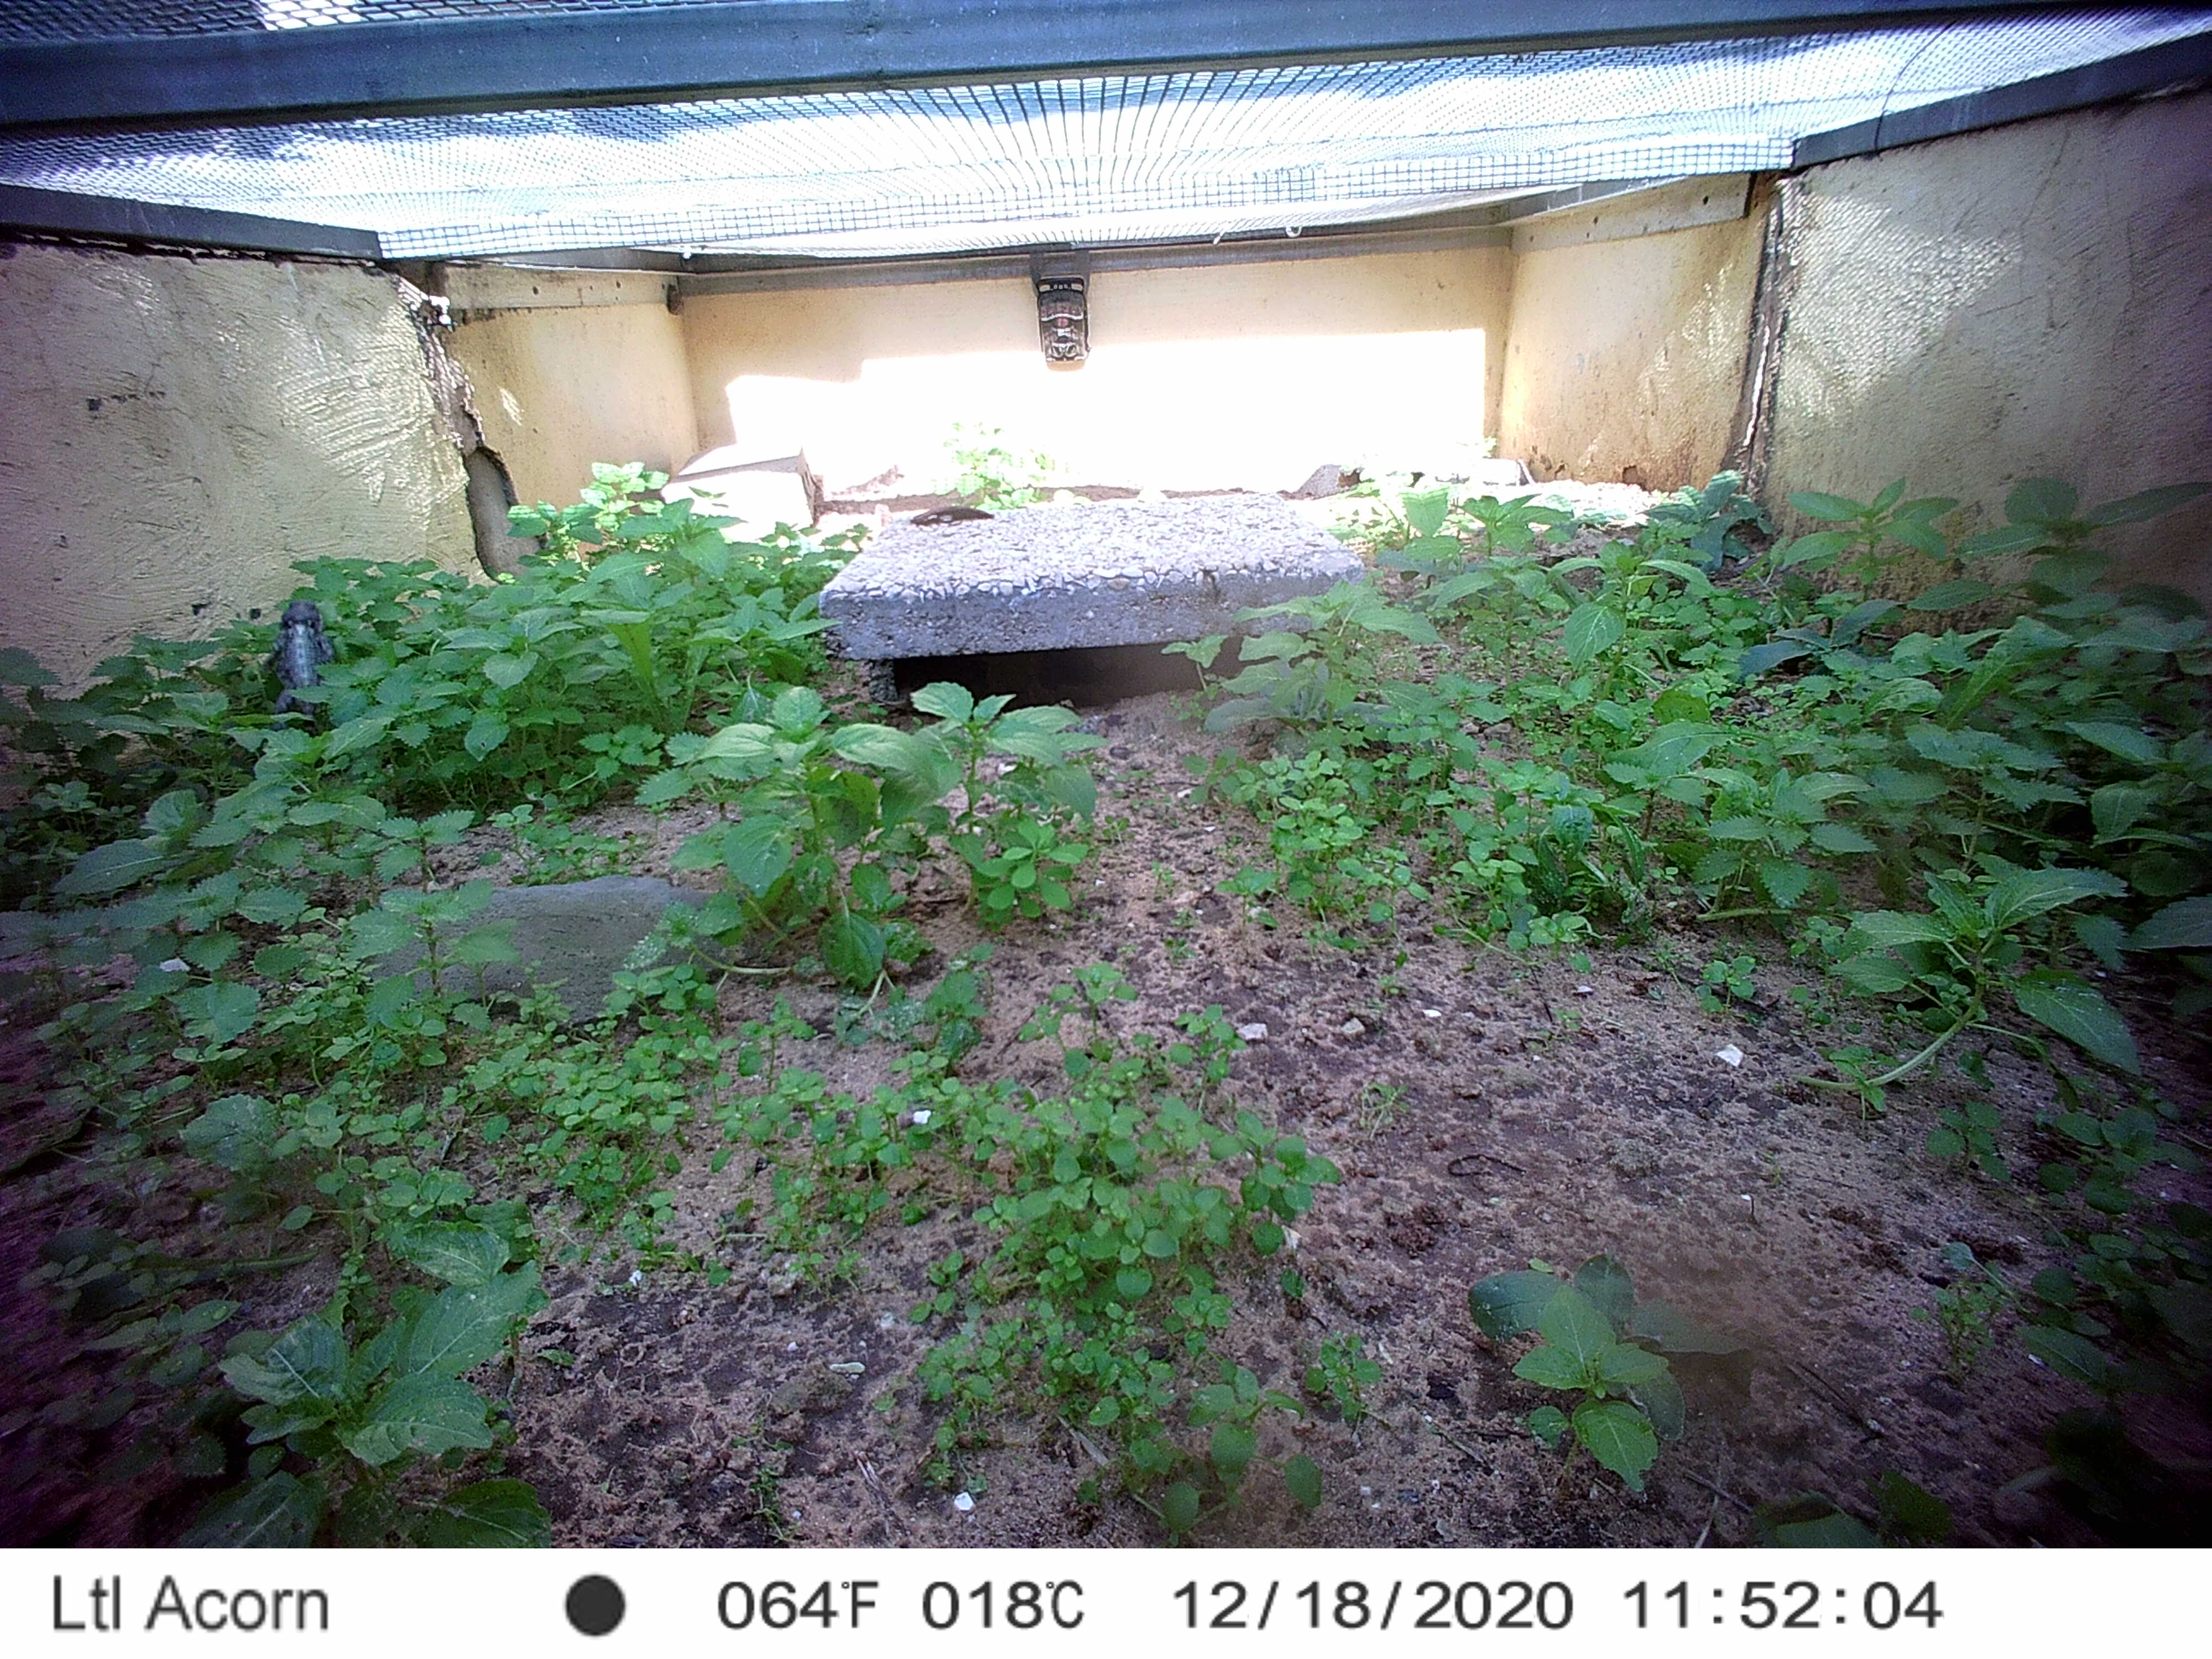lizard: (261, 591, 354, 730), (819, 458, 913, 502)
